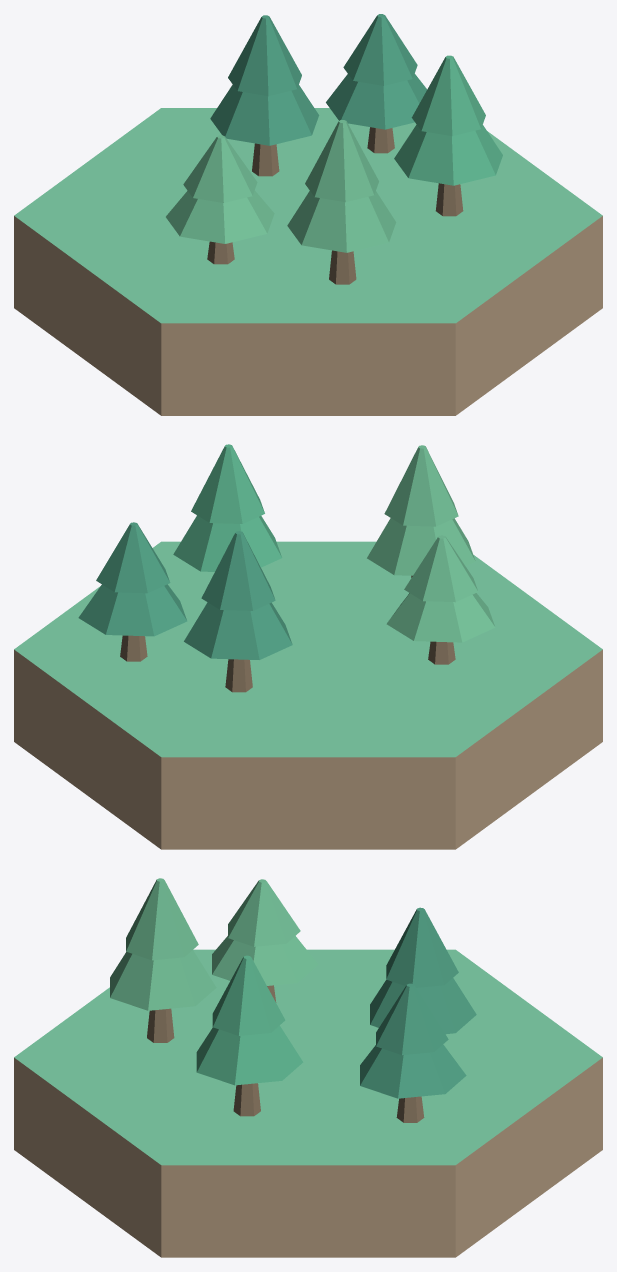
The model's file is grass-forest-2.glb.
3 renders of one model, top to bottom at view 1: azimuth 30°, elevation 25°; view 2: azimuth 150°, elevation 25°; view 3: azimuth 270°, elevation 25°, orthographic.
Visible parts, largest first — view 1: forest_hex_base, lower_crown_3, lower_crown_1, lower_crown_2, lower_crown_0, lower_crown_4, upper_crown_3, upper_crown_1, upper_crown_2, upper_crown_4, upper_crown_0, trunk_3 (+4 smaller); view 2: forest_hex_base, lower_crown_1, lower_crown_4, lower_crown_0, upper_crown_3, upper_crown_1, lower_crown_2, upper_crown_2, lower_crown_3, upper_crown_4, upper_crown_0, trunk_1 (+2 smaller); view 3: forest_hex_base, lower_crown_3, lower_crown_2, lower_crown_4, upper_crown_3, upper_crown_2, upper_crown_1, lower_crown_0, upper_crown_4, upper_crown_0, lower_crown_1, trunk_3 (+2 smaller).
Boxes of the visible parts, bbox=[...] form: forest_hex_base: bbox=[14, 108, 602, 415]; lower_crown_3: bbox=[287, 191, 396, 252]; lower_crown_1: bbox=[210, 84, 319, 145]; lower_crown_2: bbox=[394, 124, 502, 185]; lower_crown_0: bbox=[166, 190, 274, 243]; lower_crown_4: bbox=[326, 74, 427, 129]; upper_crown_3: bbox=[305, 120, 378, 202]; upper_crown_1: bbox=[228, 15, 301, 96]; upper_crown_2: bbox=[411, 55, 485, 136]; upper_crown_4: bbox=[343, 14, 417, 85]; upper_crown_0: bbox=[183, 135, 257, 202]; trunk_3: bbox=[329, 250, 356, 284]; forest_hex_base: bbox=[14, 541, 602, 849]; lower_crown_1: bbox=[184, 602, 292, 659]; lower_crown_4: bbox=[78, 584, 187, 636]; lower_crown_0: bbox=[386, 593, 495, 642]; upper_crown_3: bbox=[384, 445, 458, 526]; upper_crown_1: bbox=[201, 531, 275, 610]; lower_crown_2: bbox=[173, 515, 281, 571]; upper_crown_2: bbox=[191, 444, 264, 523]; lower_crown_3: bbox=[367, 518, 475, 575]; upper_crown_4: bbox=[96, 522, 170, 593]; upper_crown_0: bbox=[404, 535, 478, 602]; trunk_1: bbox=[225, 659, 252, 692]; forest_hex_base: bbox=[14, 949, 602, 1257]; lower_crown_3: bbox=[110, 950, 216, 1010]; lower_crown_2: bbox=[196, 1025, 303, 1085]; lower_crown_4: bbox=[360, 1044, 466, 1098]; upper_crown_3: bbox=[126, 878, 198, 960]; upper_crown_2: bbox=[212, 955, 285, 1035]; upper_crown_1: bbox=[386, 907, 458, 987]; lower_crown_0: bbox=[212, 936, 318, 985]; upper_crown_4: bbox=[376, 983, 448, 1055]; upper_crown_0: bbox=[228, 879, 300, 946]; lower_crown_1: bbox=[370, 978, 476, 1034]; trunk_3: bbox=[147, 1008, 174, 1042].
Bounding box in the file's own units: 1 × 0.5419 × 1.15.
